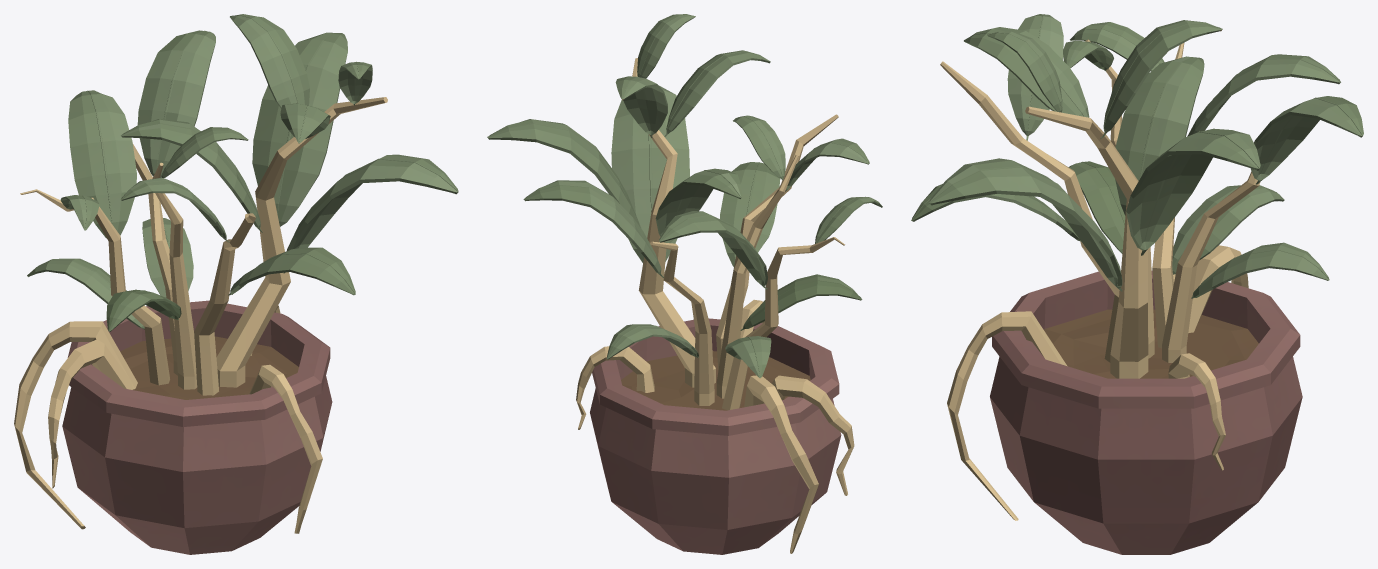
The model's file is plant_1.glb.
3 views of the same model, side by side, from view 1: azimuth 30°, elevation 25°; view 2: azimuth 150°, elevation 25°; view 3: azimuth 270°, elevation 25° (orthographic). The views are drawn at different scales.
Visible parts, largest first — view 1: plant_1; view 2: plant_1; view 3: plant_1.
Part boxes in pixels (<box>): plant_1: <box>14,14,458,554</box>; plant_1: <box>487,14,882,554</box>; plant_1: <box>911,14,1363,554</box>.
Bounding box in the file's own units: 0.6909 × 0.898 × 0.6761.
1 material, 1 textured.
